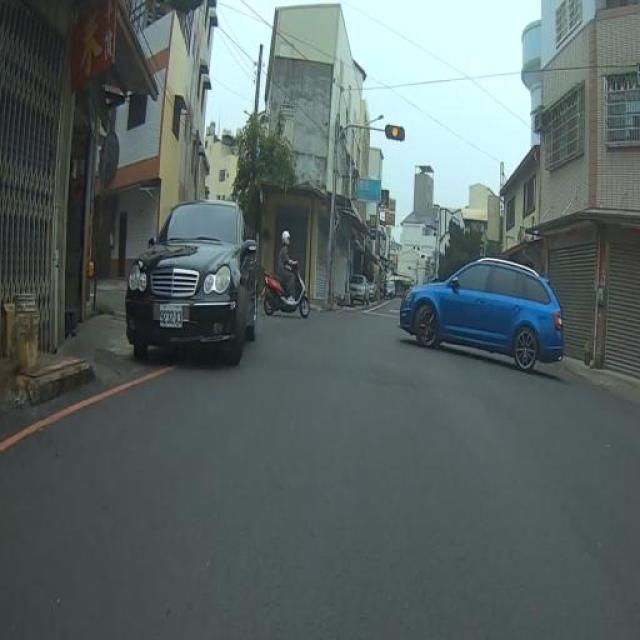illegalparking: (126, 201, 258, 351), (400, 258, 562, 371)
